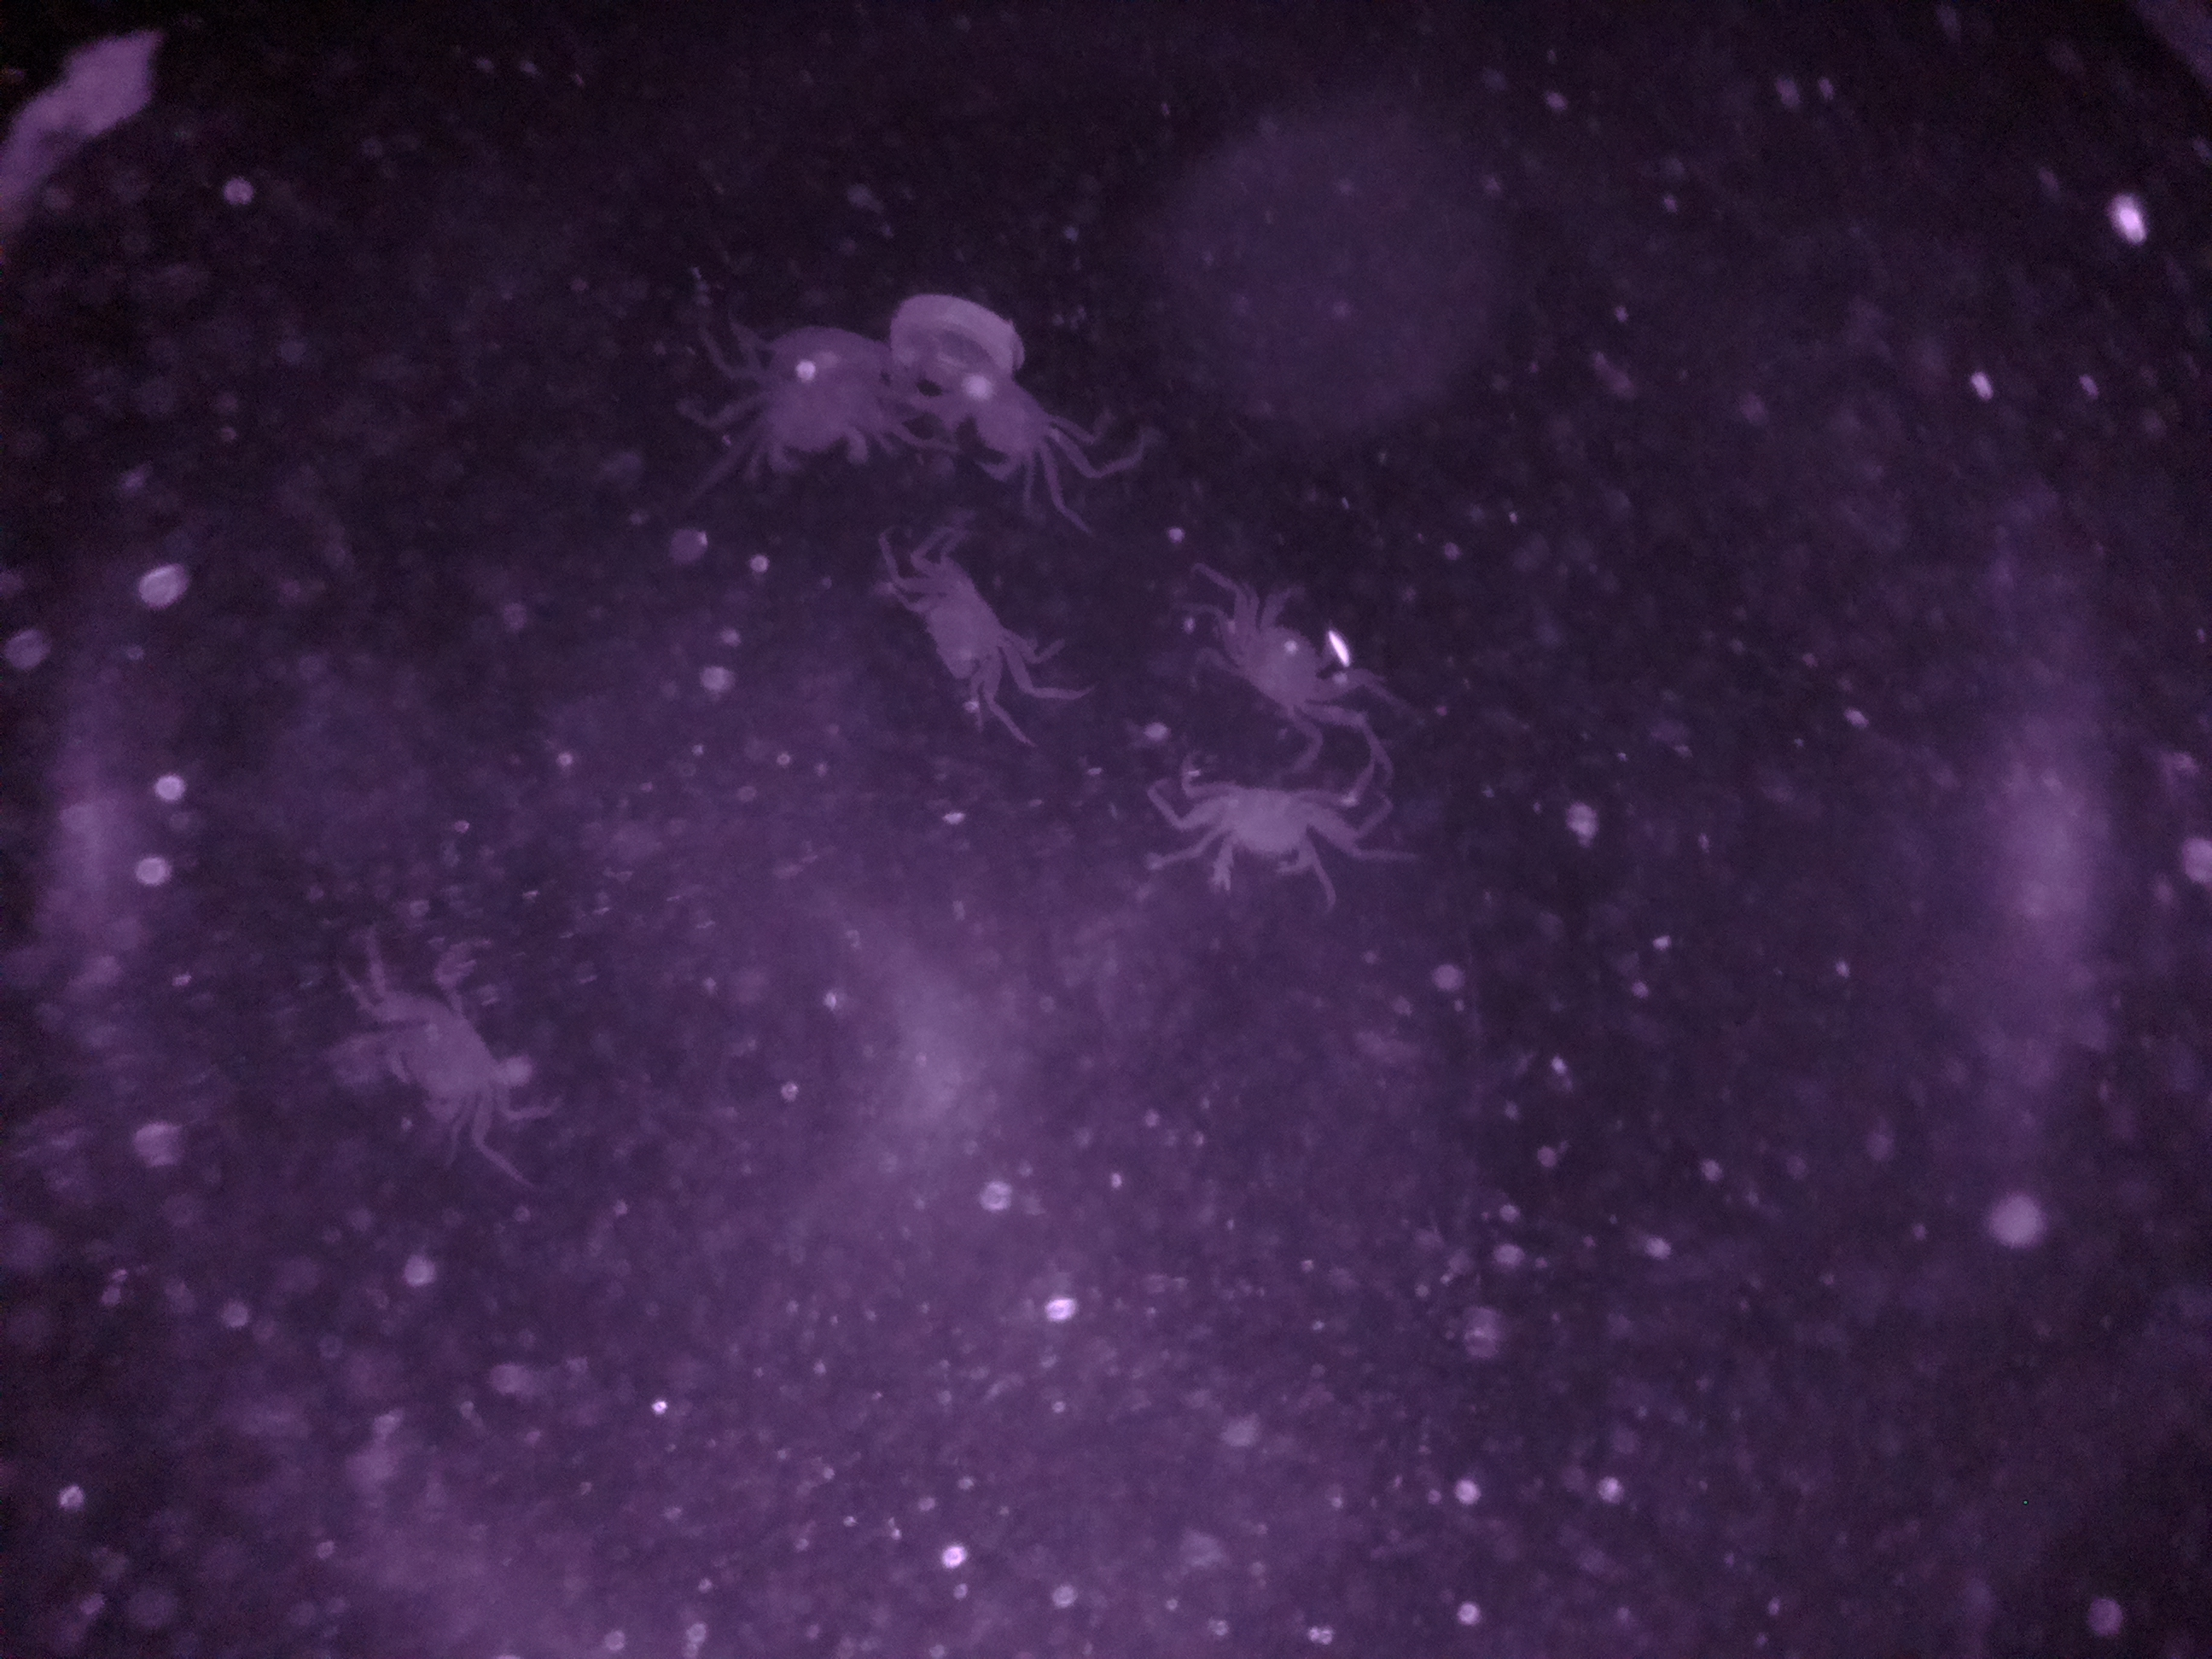Crab: (890, 519, 1068, 755), (1202, 554, 1397, 762), (1139, 762, 1414, 896)
